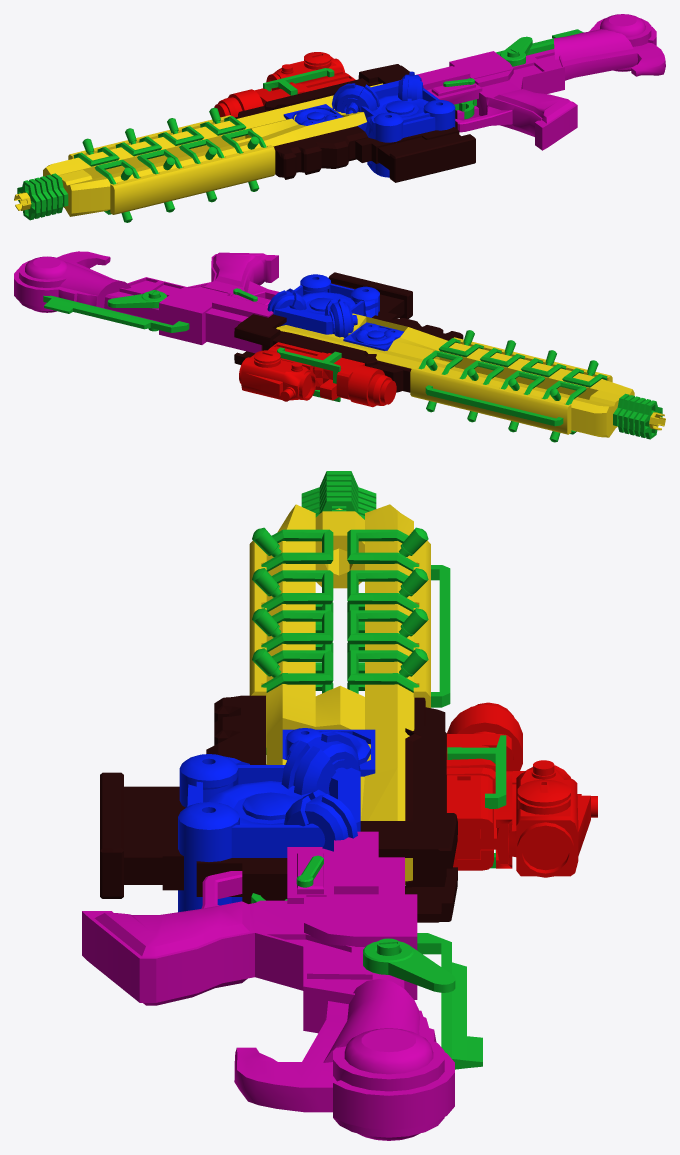
The model's file is GravityGrapple.FBX.
3 views of the same model, one above another, from view 1: azimuth 30°, elevation 25°; view 2: azimuth 150°, elevation 25°; view 3: azimuth 270°, elevation 25° (orthographic). The views are drawn at different scales.
Visible parts, largest first — view 1: BodyRear_LP, Barrel_LP, BodyMain_LP, Misc Parts_LP, Generator_LP, Sight_LP; view 2: BodyRear_LP, Barrel_LP, Misc Parts_LP, Sight_LP, Generator_LP, BodyMain_LP; view 3: BodyRear_LP, Misc Parts_LP, BodyMain_LP, Barrel_LP, Generator_LP, Sight_LP.
Part boxes in pixels (x1,y1,x2,y2): BodyRear_LP: (401,14,665,150); Barrel_LP: (14,83,382,216); BodyMain_LP: (235,64,475,182); Misc Parts_LP: (17,29,583,222); Generator_LP: (283,71,455,177); Sight_LP: (214,52,355,117); BodyRear_LP: (14,251,279,353); Barrel_LP: (276,313,665,437); Misc Parts_LP: (43,288,662,442); Sight_LP: (239,342,396,407); Generator_LP: (267,274,403,350); BodyMain_LP: (234,272,463,392); BodyRear_LP: (82,831,454,1140); Misc Parts_LP: (251,471,506,1069); BodyMain_LP: (100,695,457,922); Barrel_LP: (249,504,430,884); Generator_LP: (178,728,375,912); Sight_LP: (446,702,597,877).
Size of the model in its own units: 113 by 11.45 by 39.85.
